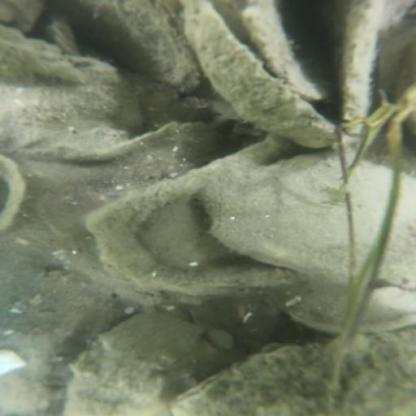Oyster-Closed: (206, 149, 416, 290), (177, 326, 415, 416), (0, 32, 133, 145), (66, 312, 196, 415), (62, 2, 201, 90), (242, 1, 336, 100), (1, 366, 47, 415), (371, 286, 416, 311)
Oyster-Open: (183, 0, 380, 146)
